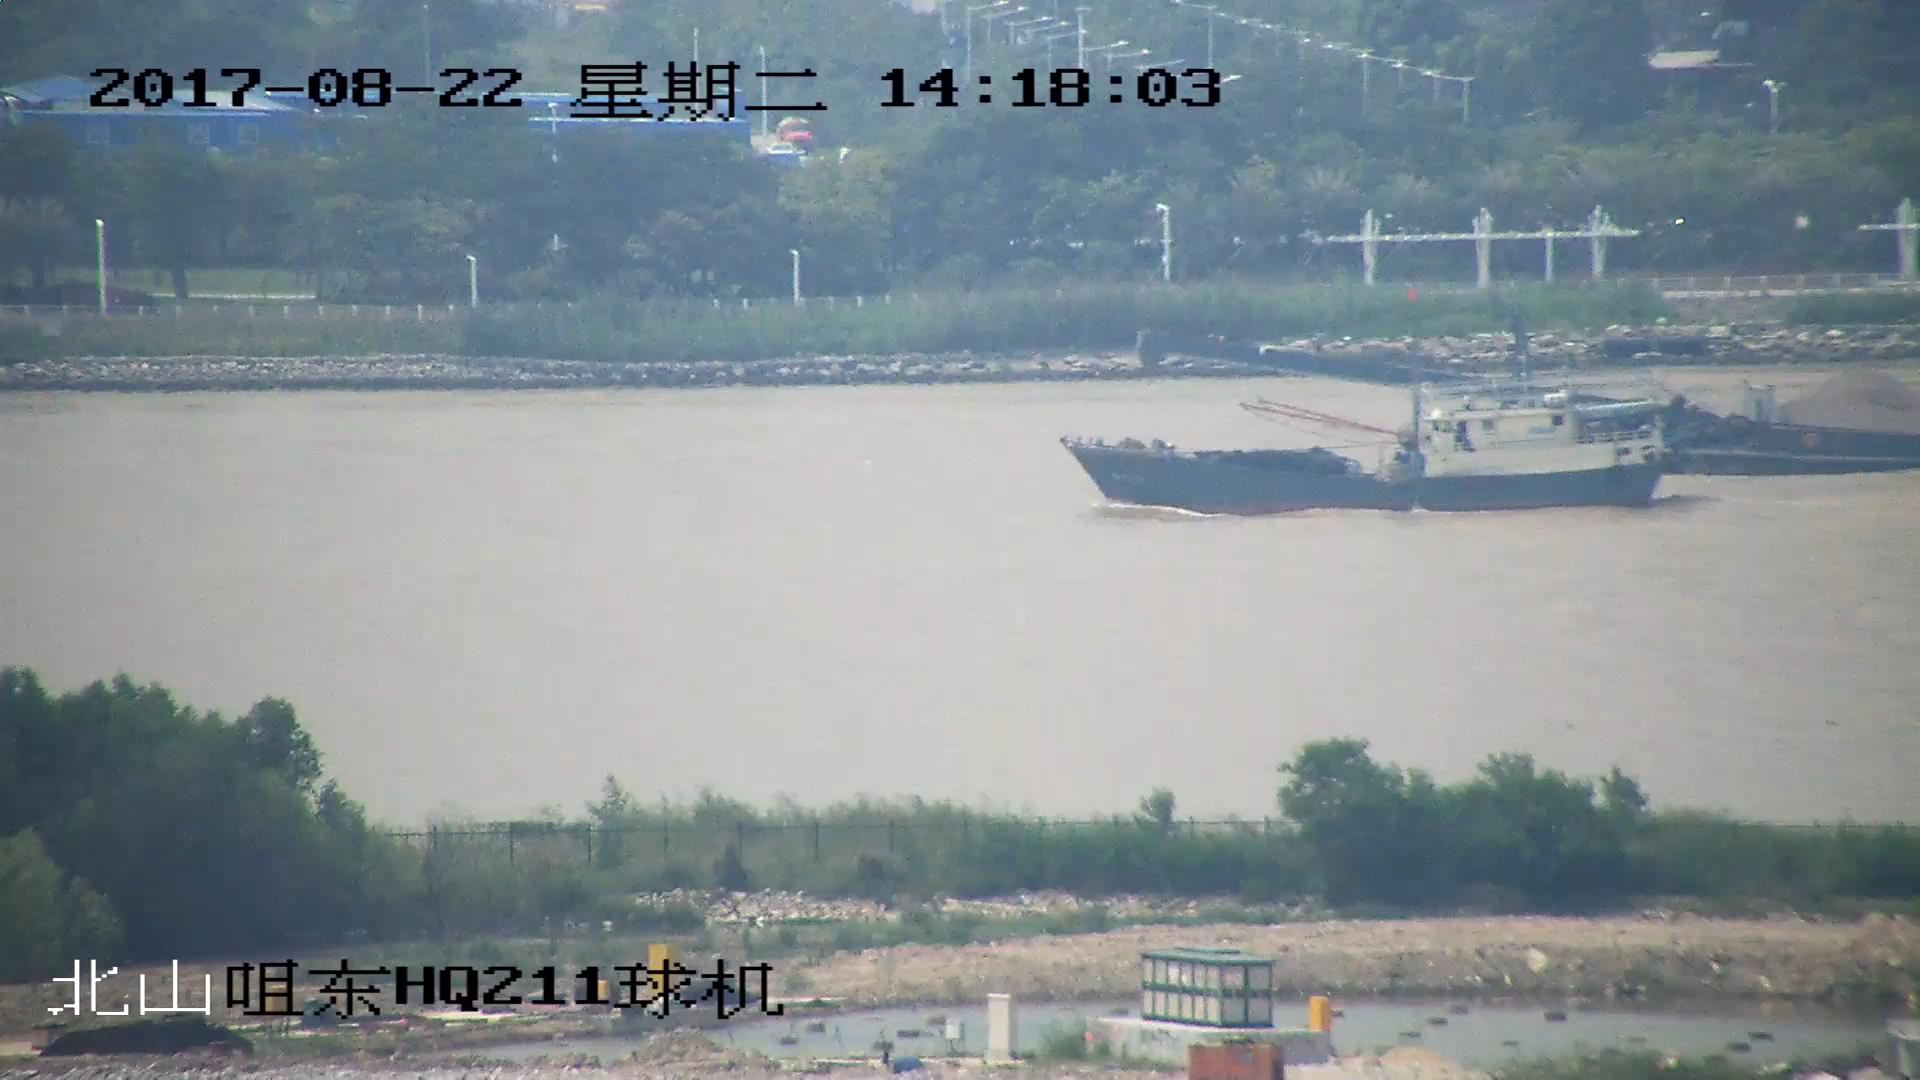fishing boat: (1063, 291, 1661, 518)
ore carrier: (1136, 329, 1920, 479)
